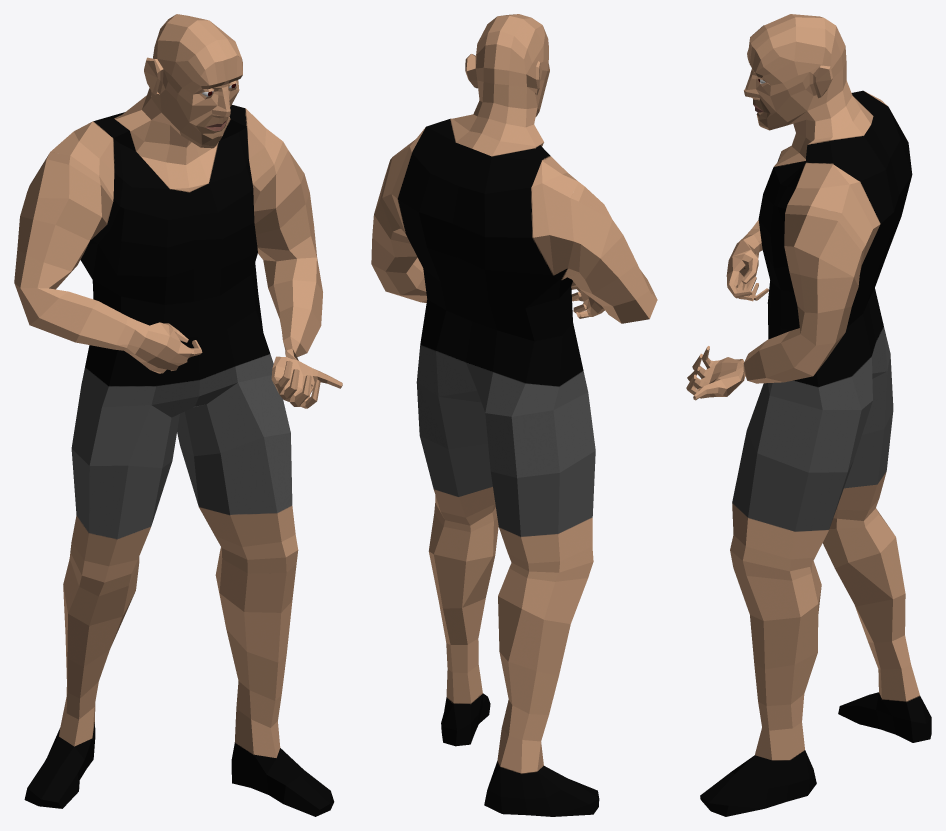
The model's file is PlayerIdle(180).obj.
The picture shows the model from 3 angles, left to right: view 1: azimuth 30°, elevation 25°; view 2: azimuth 150°, elevation 25°; view 3: azimuth 270°, elevation 25°; orthographic projection. The views are drawn at different scales.
Parts seen in each view (by area): view 1: Plane002; view 2: Plane002; view 3: Plane002.
Boxes of the visible parts, x1,y1,x2,y2 form: Plane002: [14, 14, 342, 816]; Plane002: [371, 14, 657, 816]; Plane002: [686, 14, 931, 816].
Bounding box in the file's own units: 708 × 1802 × 533.
